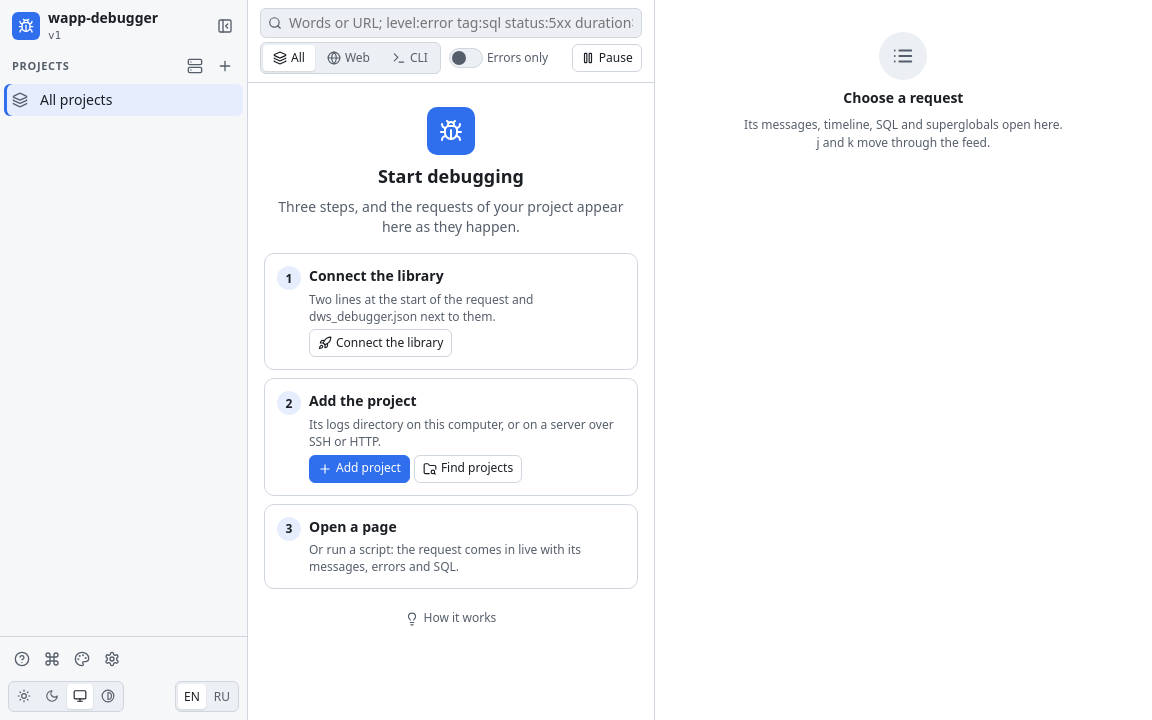
Test: App › opens the desktop settings
Click the button named "Settings": (112, 659) [98, 645, 126, 673]
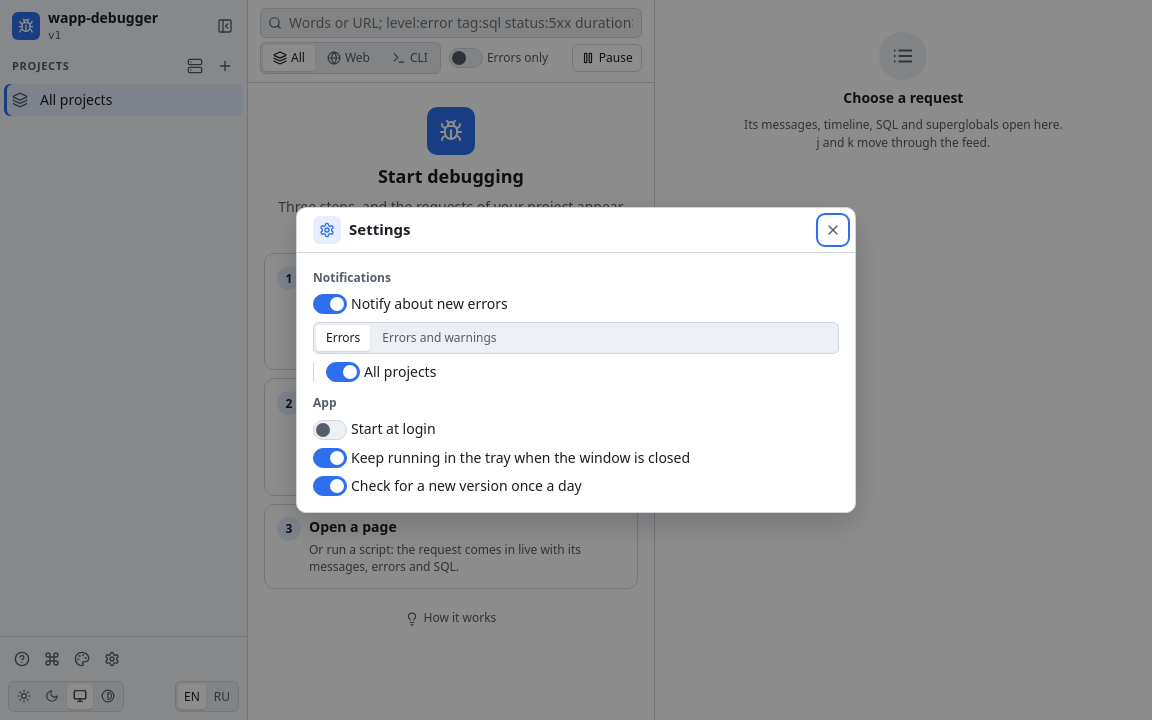
Result: the dialog "Settings" is shown at [296, 207, 856, 513]
